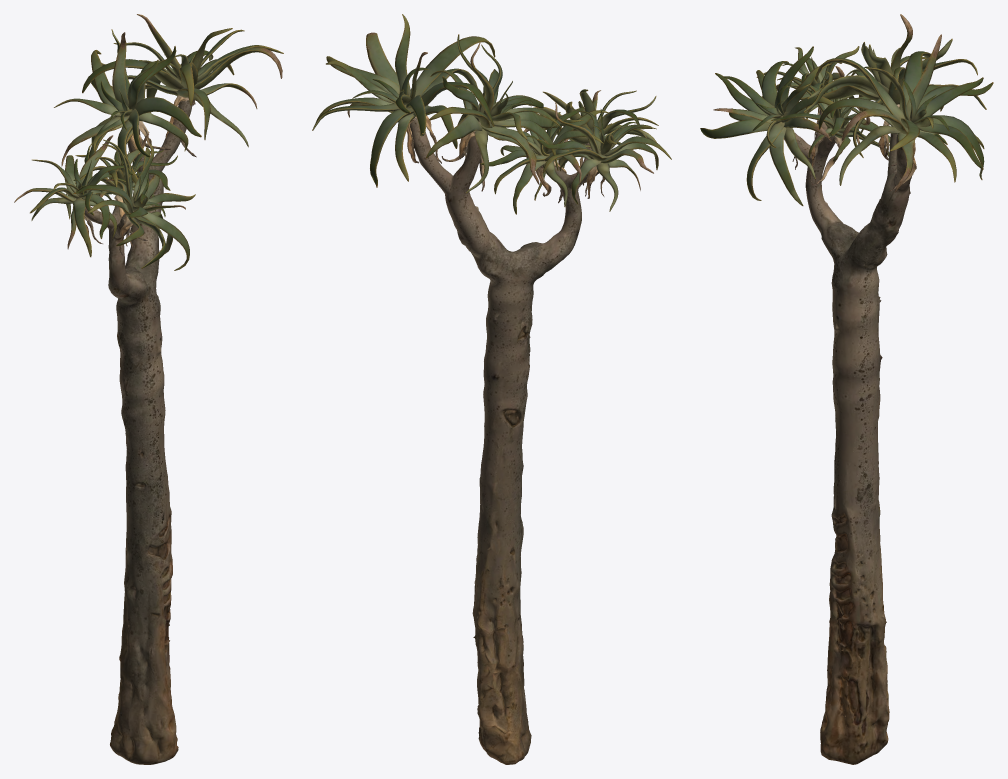
The model's file is quiver_tree_01.glb.
3 views of the same model, side by side, from view 1: azimuth 30°, elevation 25°; view 2: azimuth 150°, elevation 25°; view 3: azimuth 270°, elevation 25° (orthographic). The views are drawn at different scales.
Parts seen in each view (by area): view 1: quiver_tree_01; view 2: quiver_tree_01; view 3: quiver_tree_01.
Boxes of the visible parts, <box> form: quiver_tree_01: <box>14,14,283,764</box>; quiver_tree_01: <box>312,14,671,764</box>; quiver_tree_01: <box>700,14,993,764</box>.
Bounding box in the file's own units: 1.18 × 2.72 × 0.9687.
Materials: 2 (2 with a texture image).
